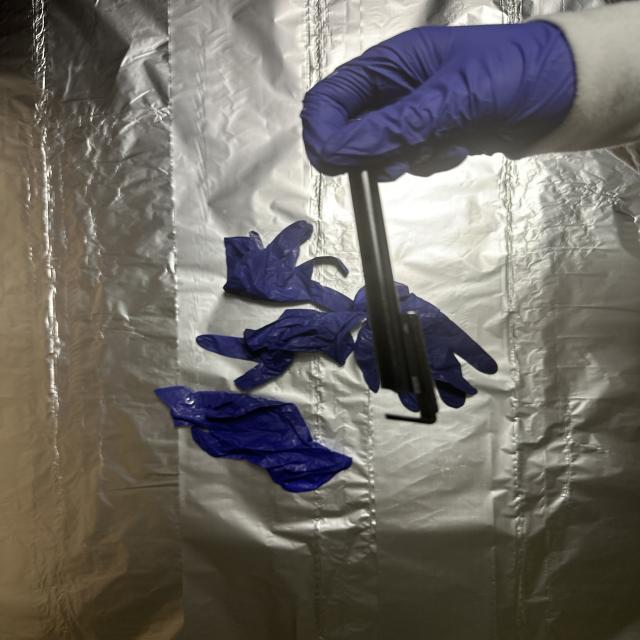gloves_contaminated: (301, 22, 576, 181)
